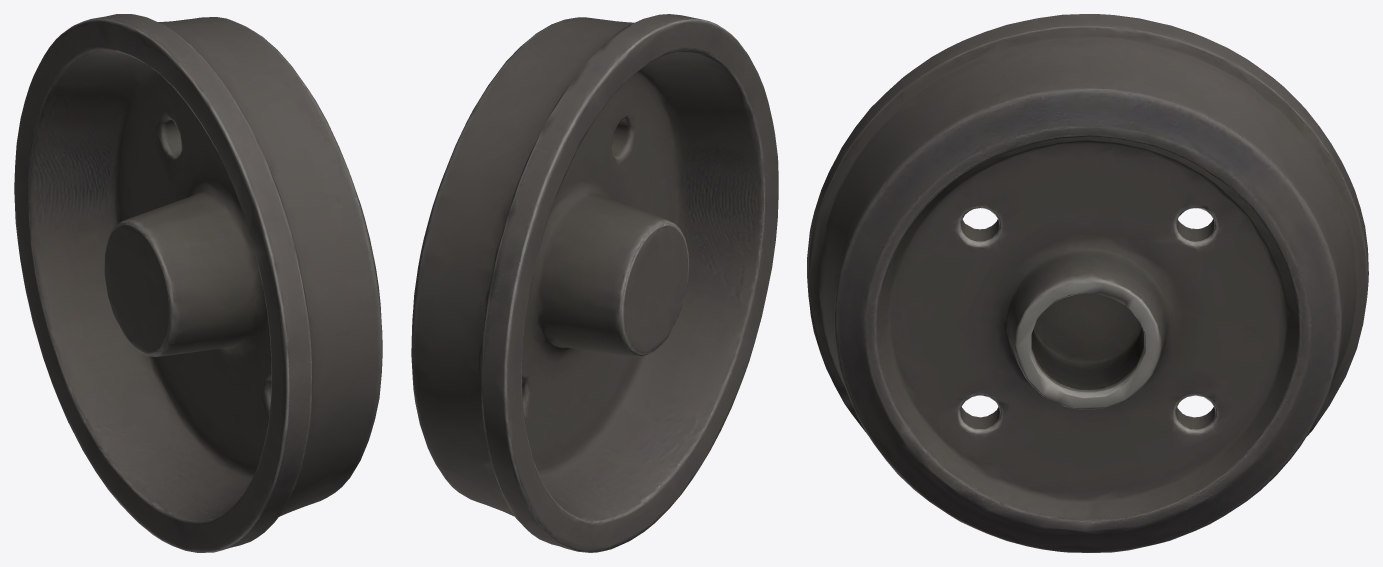
File: rear-axle-hub-drum.glb
The picture shows the model from 3 angles, left to right: view 1: azimuth 30°, elevation 25°; view 2: azimuth 150°, elevation 25°; view 3: azimuth 270°, elevation 25°; orthographic projection. The views are drawn at different scales.
Parts seen in each view (by area): view 1: tripo_node_502e6f87-8e25-46ec-9e68-b6d44cdc00a2; view 2: tripo_node_502e6f87-8e25-46ec-9e68-b6d44cdc00a2; view 3: tripo_node_502e6f87-8e25-46ec-9e68-b6d44cdc00a2.
Part boxes in pixels (left/top/right/bottom): tripo_node_502e6f87-8e25-46ec-9e68-b6d44cdc00a2: left=14, top=14, right=382, bottom=552; tripo_node_502e6f87-8e25-46ec-9e68-b6d44cdc00a2: left=411, top=14, right=778, bottom=552; tripo_node_502e6f87-8e25-46ec-9e68-b6d44cdc00a2: left=807, top=14, right=1368, bottom=552.
Bounding box in the file's own units: 0.3573 × 1 × 0.9995.
Materials: 1 (1 with a texture image).
